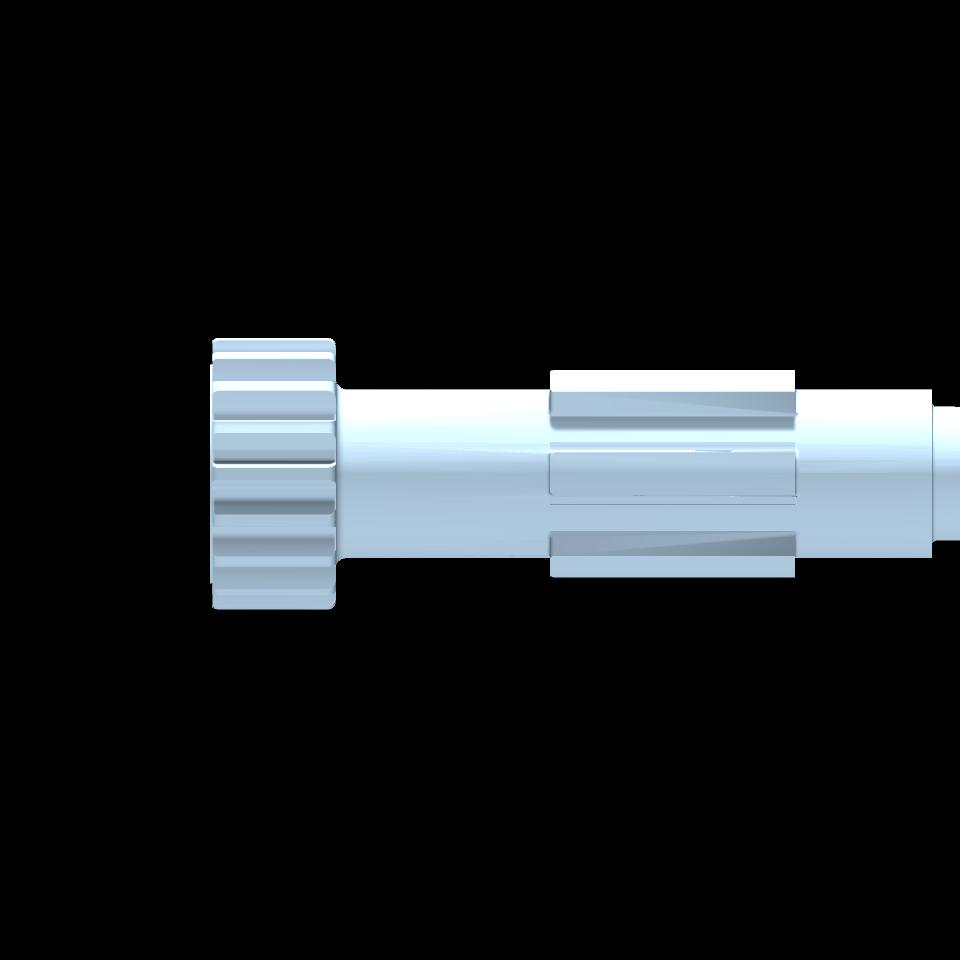Straight: (551, 369, 794, 580), (215, 337, 332, 609)
